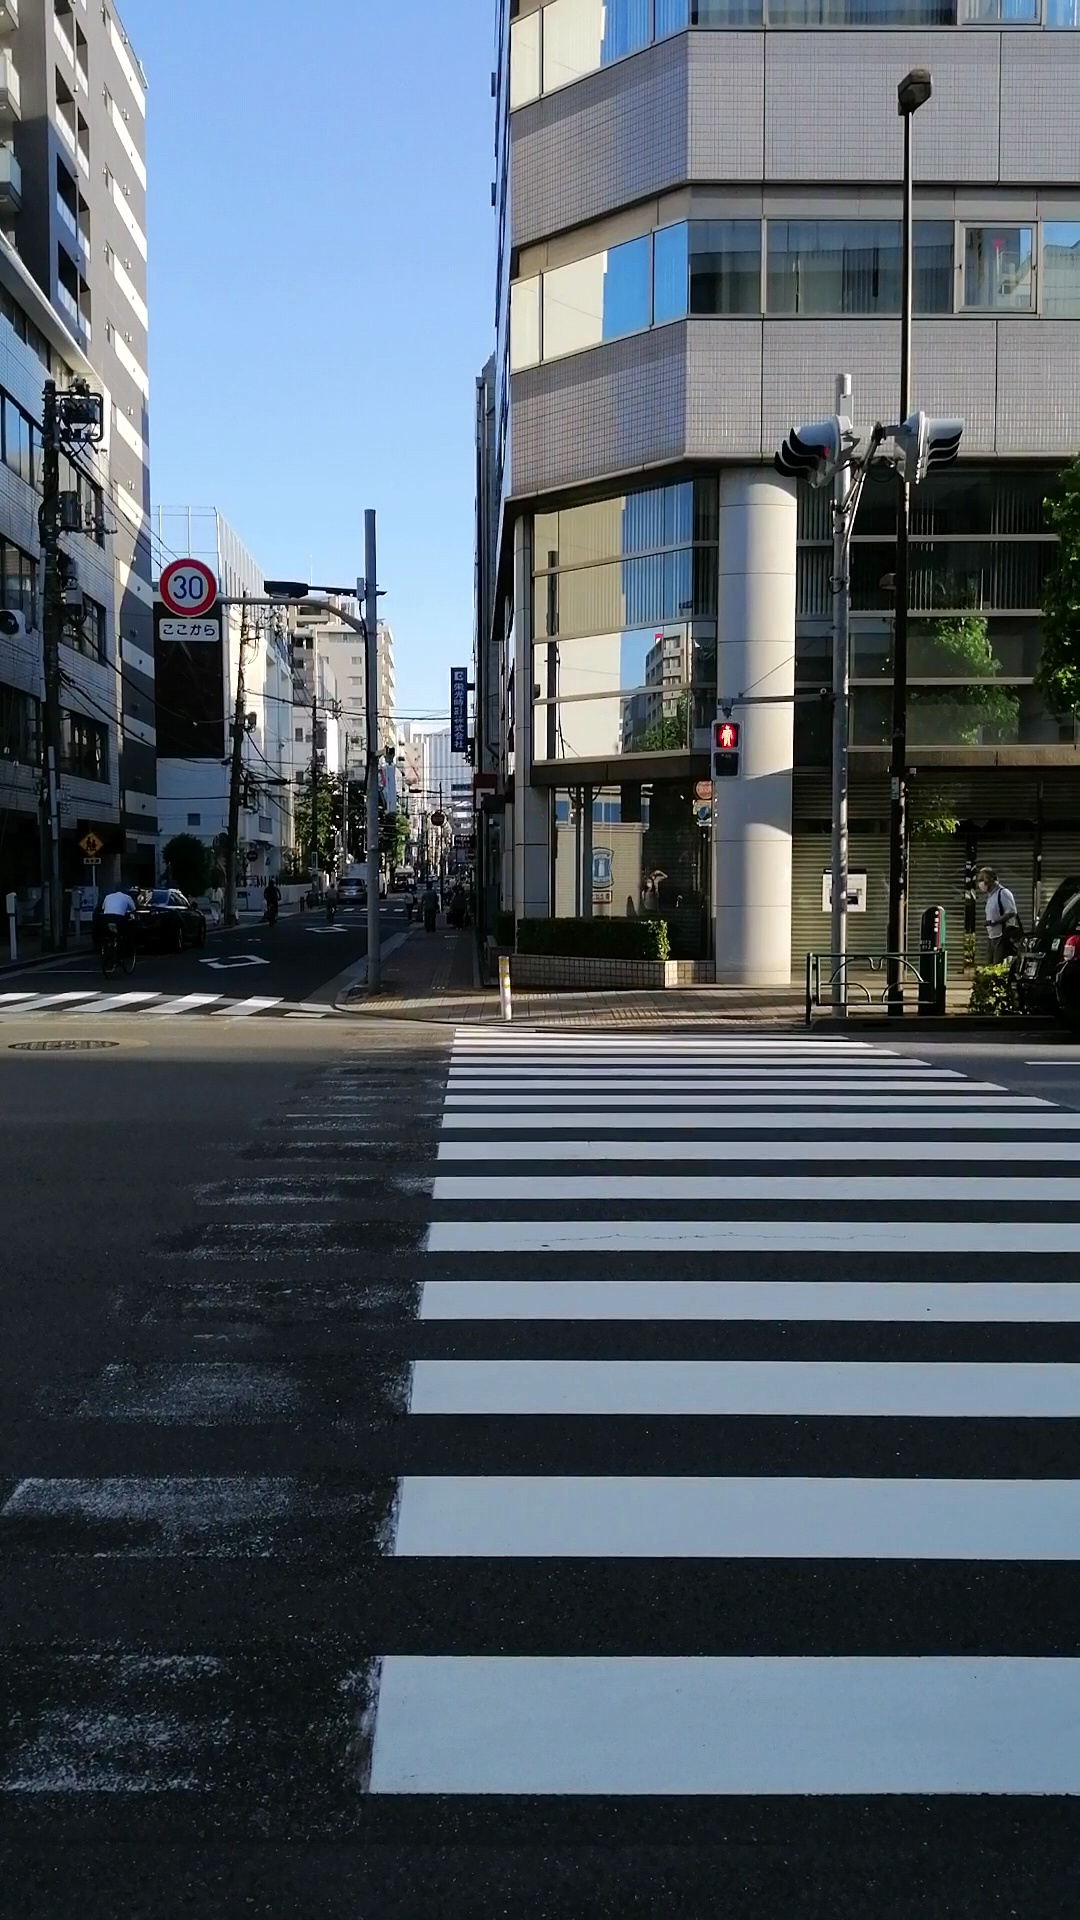red: (707, 717, 744, 782)
